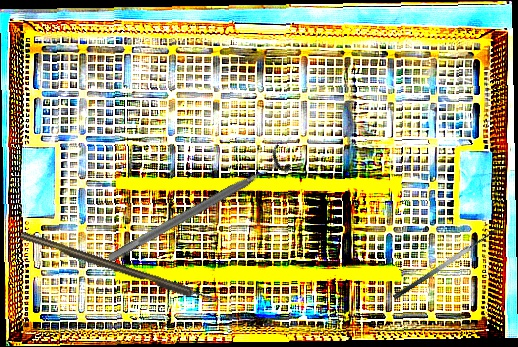Fixation Ring: (100, 143, 294, 272)
Hook Surgical: (19, 229, 221, 308)
Spatula Surgical: (386, 220, 503, 301)
